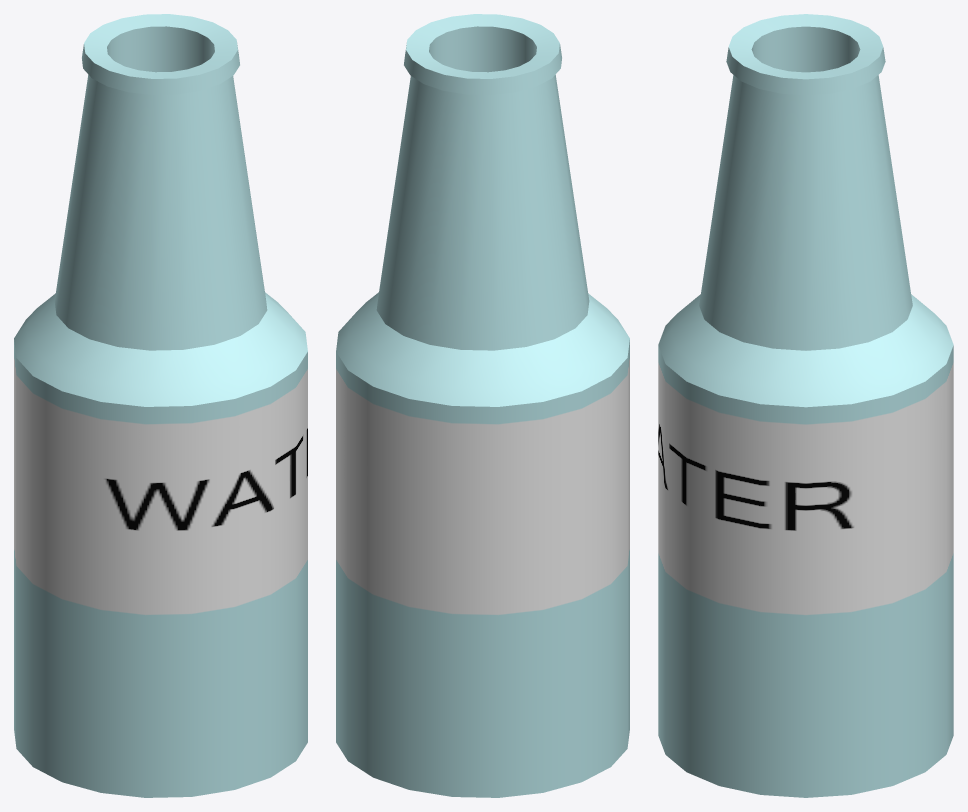
Rendered from agua.obj.
The picture shows the model from 3 angles, left to right: view 1: azimuth 30°, elevation 25°; view 2: azimuth 150°, elevation 25°; view 3: azimuth 270°, elevation 25°; orthographic projection.
Visible parts, largest first — view 1: pCylinder1; view 2: pCylinder1; view 3: pCylinder1.
Boxes of the visible parts, x1,y1,x2,y2 form: pCylinder1: (14,14,307,797); pCylinder1: (336,14,629,797); pCylinder1: (658,14,953,797).
Size of the model in its own units: 5.08 by 13.07 by 5.08.
Materials: 1 (1 with a texture image).
